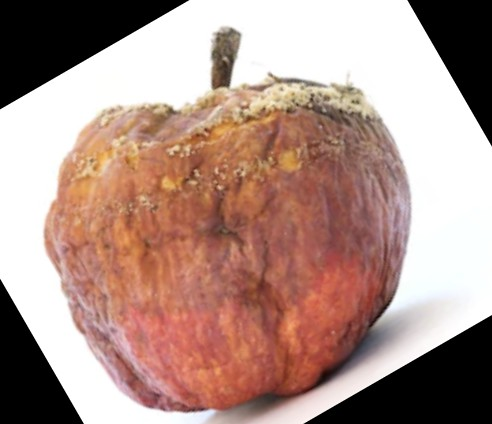rotten_apple: (45, 78, 412, 415)
